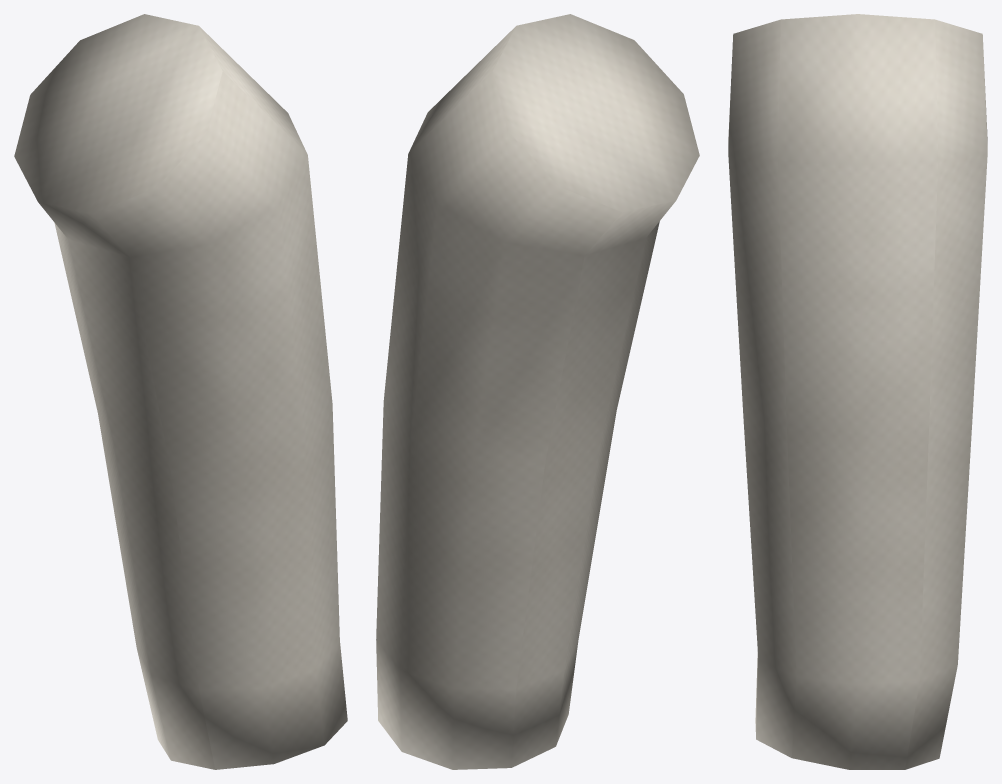
File: brazoizq.obj
The picture shows the model from 3 angles, left to right: view 1: azimuth 30°, elevation 25°; view 2: azimuth 150°, elevation 25°; view 3: azimuth 270°, elevation 25°; orthographic projection.
Visible parts, largest first — view 1: BrazoIzq; view 2: BrazoIzq; view 3: BrazoIzq.
Part boxes in pixels (left/top/right/bottom): BrazoIzq: left=14, top=14, right=347, bottom=769; BrazoIzq: left=376, top=14, right=699, bottom=769; BrazoIzq: left=728, top=14, right=987, bottom=769.
Bounding box in the file's own units: 0.0836 × 0.1987 × 0.0653.
1 material, 1 textured.
